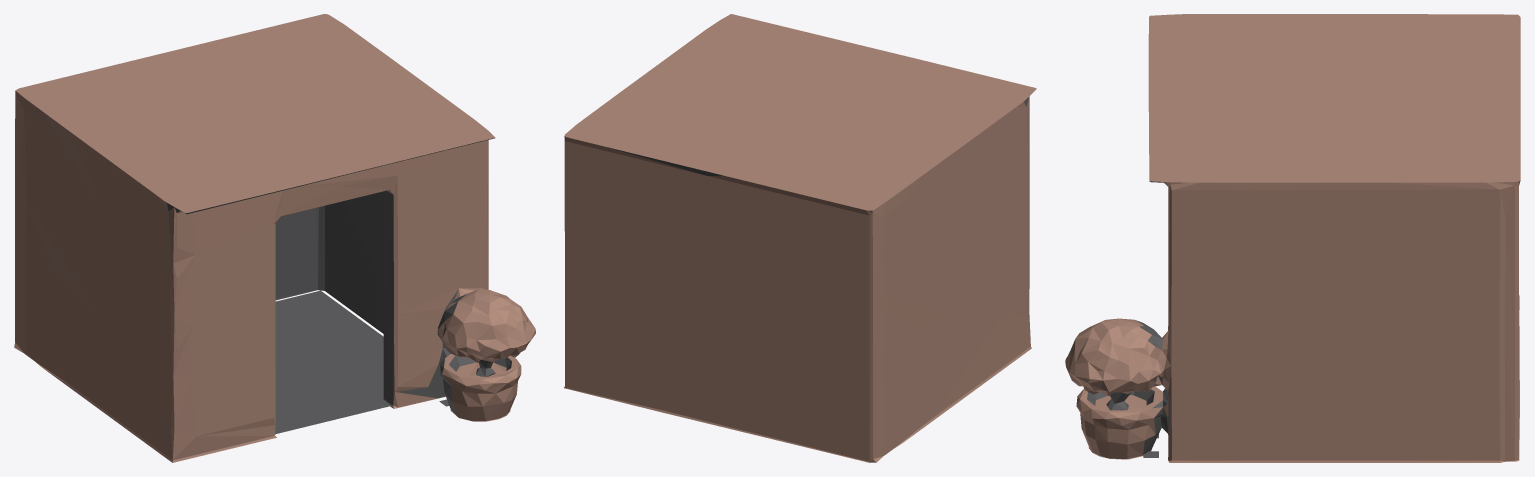
Rendered from etape-1.glb.
The picture shows the model from 3 angles, left to right: view 1: azimuth 30°, elevation 25°; view 2: azimuth 150°, elevation 25°; view 3: azimuth 270°, elevation 25°; orthographic projection. The views are drawn at different scales.
Parts seen in each view (by area): view 1: geometry_0; view 2: geometry_0; view 3: geometry_0.
Boxes of the visible parts, x1,y1,x2,y2 form: geometry_0: (14,14,535,462); geometry_0: (564,14,1036,462); geometry_0: (1065,14,1520,462).
Size of the model in its own units: 0.792 by 0.5857 by 0.8651.
